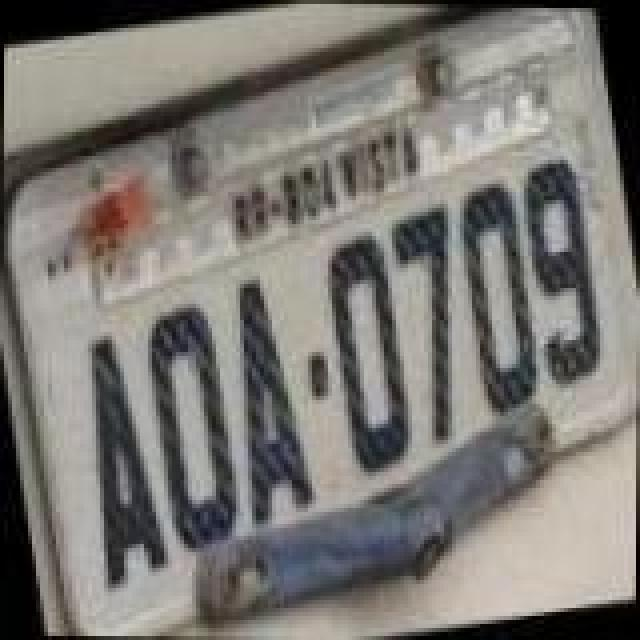7: (382, 202, 490, 446)
9: (508, 154, 612, 390)
A: (60, 330, 176, 590), (210, 276, 322, 528)
O: (132, 300, 248, 556), (312, 230, 424, 478), (442, 174, 550, 414)
